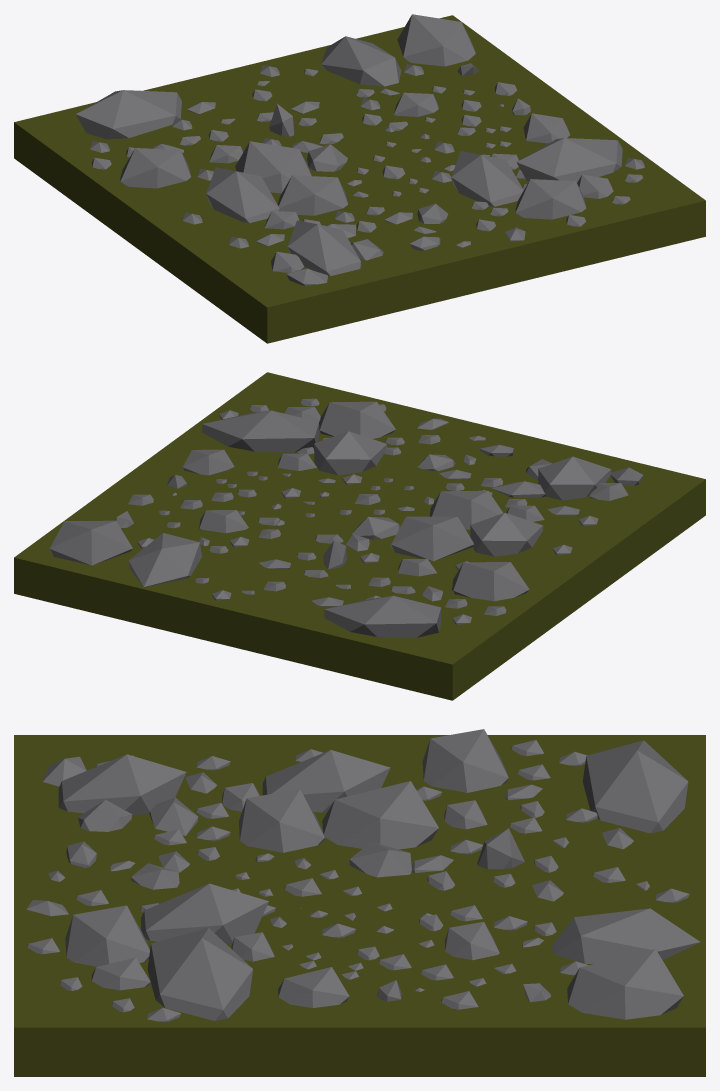
File: Piso de piedras gastada.fbx
The picture shows the model from 3 angles, top to bottom: view 1: azimuth 30°, elevation 25°; view 2: azimuth 150°, elevation 25°; view 3: azimuth 270°, elevation 25°; orthographic projection. The views are drawn at different scales.
Visible parts, largest first — view 1: polySurface184; view 2: polySurface184; view 3: polySurface184.
Boxes of the visible parts, box(x1,y1,x2,y2) form: polySurface184: box(14, 14, 705, 343); polySurface184: box(14, 372, 705, 700); polySurface184: box(14, 729, 705, 1076).
Bounding box in the file's own units: 3 × 0.4548 × 3.
